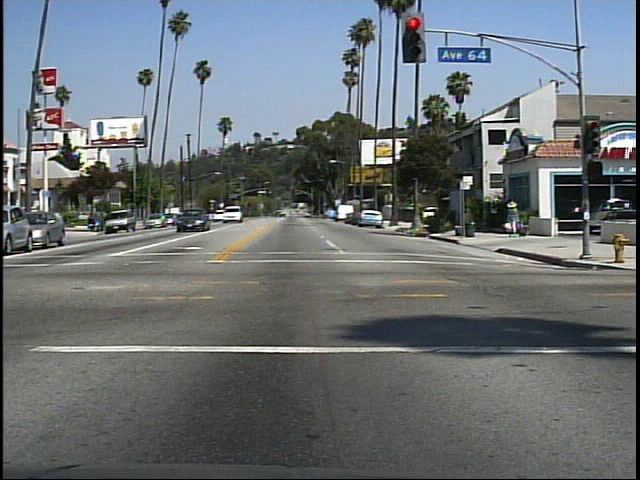person: (501, 194, 527, 244)
